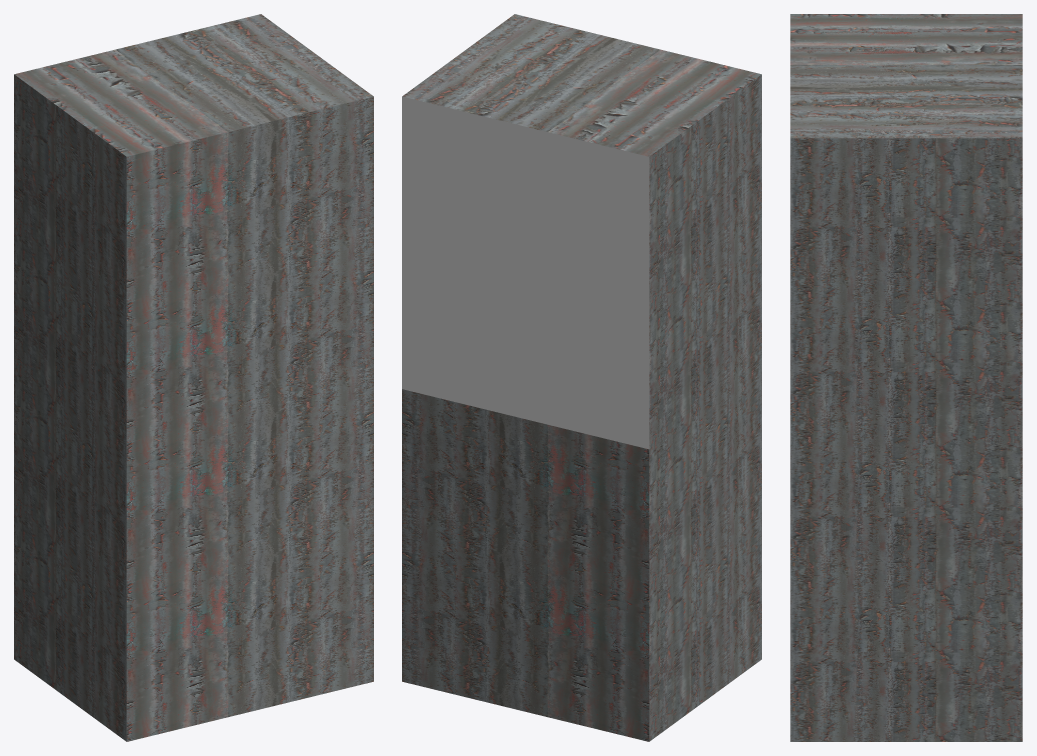
Rendered from InstrumentRack.fbx.
3 renders of one model, left to right at view 1: azimuth 30°, elevation 25°; view 2: azimuth 150°, elevation 25°; view 3: azimuth 270°, elevation 25°, orthographic. The views are drawn at different scales.
Parts seen in each view (by area): view 1: Ballastkontrolle; view 2: Ballastkontrolle; view 3: Ballastkontrolle.
Boxes of the visible parts, x1=… form: Ballastkontrolle: x1=14, y1=14, x2=373, y2=741; Ballastkontrolle: x1=402, y1=14, x2=761, y2=741; Ballastkontrolle: x1=790, y1=14, x2=1022, y2=741.
Bounding box in the file's own units: 40.72 × 92.12 × 32.18.
